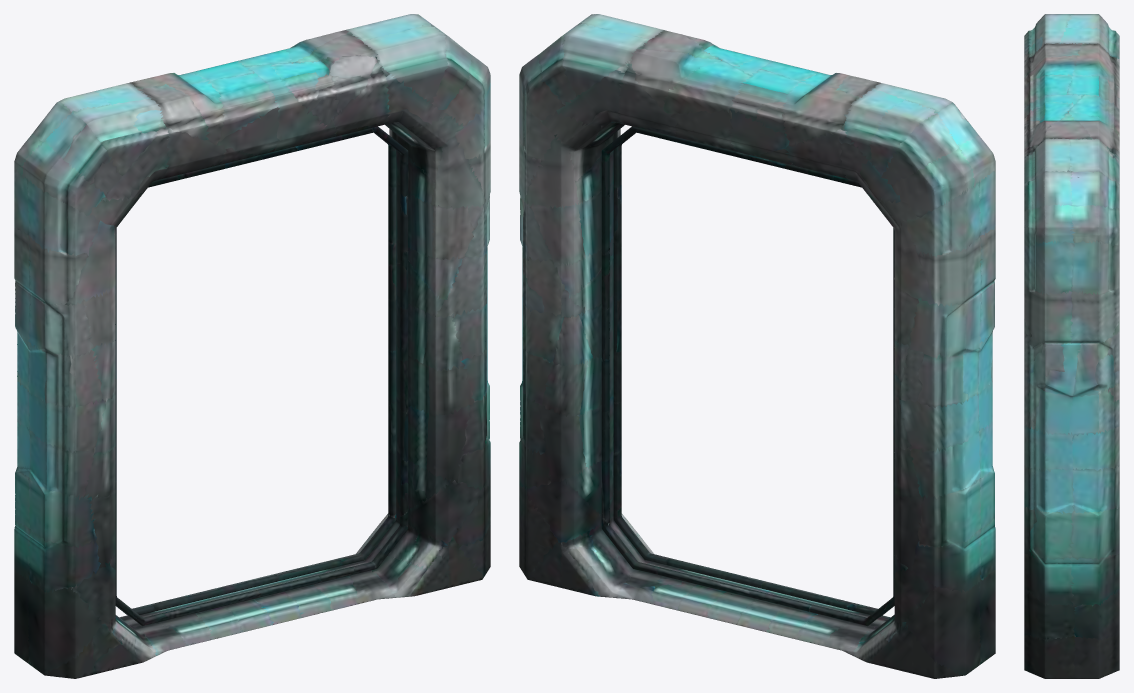
Rendered from Meshy_AI_Neon_Quantum_Portal_0216123143_texture.glb.
The picture shows the model from 3 angles, left to right: view 1: azimuth 30°, elevation 25°; view 2: azimuth 150°, elevation 25°; view 3: azimuth 270°, elevation 25°; orthographic projection. The views are drawn at different scales.
Size of the model in its own units: 1.63 by 1.9 by 0.3364.
Materials: 1 (1 with a texture image).
